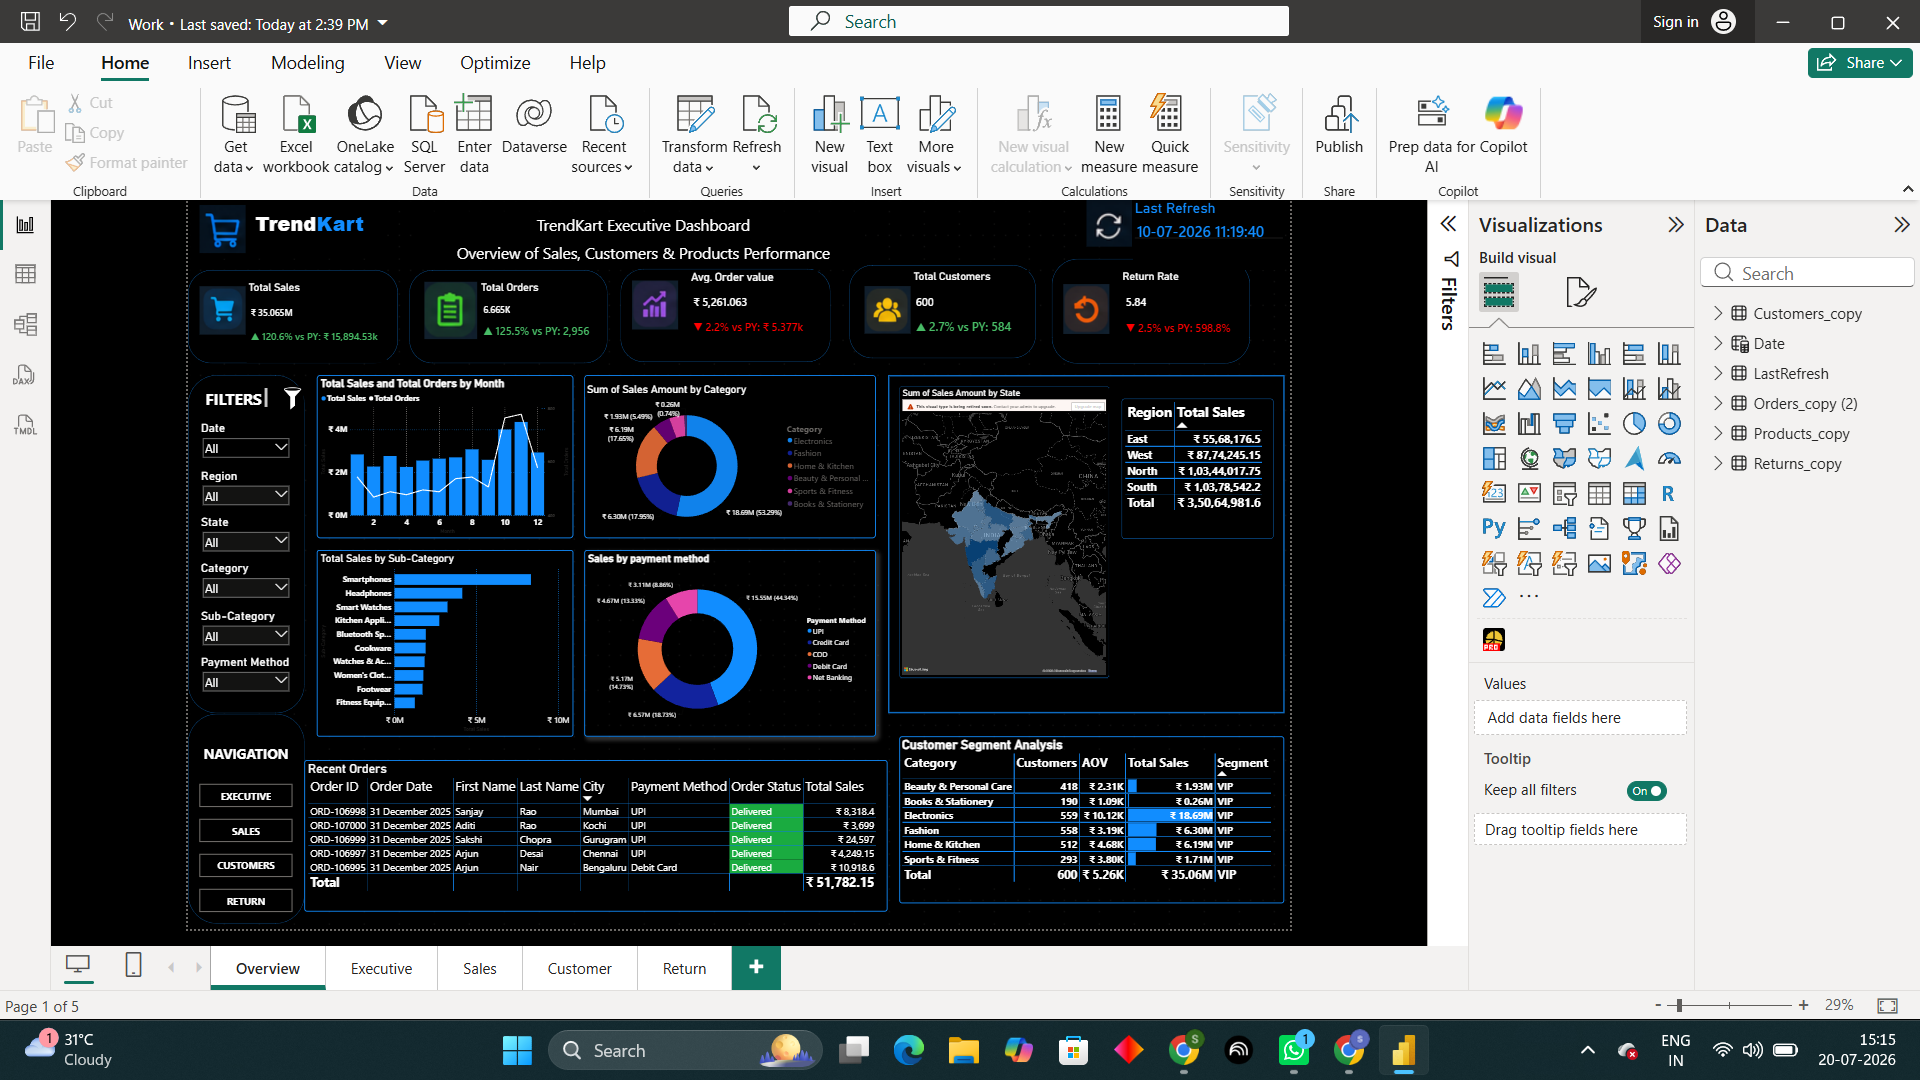

This screenshot's page, from the dashboard's own definition file:
{"tool":"powerbi","page":{"name":"Overview","canvas":[3020,2000],"ordinal":0},"visuals":[{"type":"textbox","box":[32,0,512,160],"z":0},{"type":"image","box":[32,0,128,160],"z":1000},{"type":"textbox","box":[640,32,1216,160],"z":2000},{"type":"shape","box":[0,480,320,928],"z":3000},{"type":"textbox","box":[32,512,192,64],"z":4000},{"type":"image","box":[256,512,64,64],"z":5000},{"type":"slicer","title":"Date","fields":{"Values":["Date.Date"]},"box":[32,608,256,128],"z":6000},{"type":"slicer","title":"Region","fields":{"Values":["Customers_copy.Region"]},"box":[32,736,256,128],"z":7000},{"type":"slicer","title":"State","fields":{"Values":["Customers_copy.State"]},"box":[32,864,256,128],"z":8000},{"type":"slicer","title":"Category","fields":{"Values":["Products_copy.Category"]},"box":[32,992,256,128],"z":9000},{"type":"slicer","title":"Sub-Category","fields":{"Values":["Products_copy.Sub-Category"]},"box":[32,1120,256,128],"z":10000},{"type":"slicer","title":"Payment Method","fields":{"Values":["Orders_copy (2).Payment Method"]},"box":[32,1248,256,128],"z":11000},{"type":"shape","box":[1920,480,1088,928],"z":12000},{"type":"shape","box":[0,192,576,256],"z":13000},{"type":"cardVisual","title":"Total Sales","fields":{"Data":["Orders_copy (2).Total Sales"]},"box":[160,224,384,224],"z":14000},{"type":"image","box":[32,224,128,160],"z":15000},{"type":"shape","box":[608,192,544,256],"z":16000},{"type":"cardVisual","title":"Total Orders","fields":{"Data":["Orders_copy (2).Curr_Order"]},"box":[800,224,320,192],"z":17000},{"type":"image","box":[640,224,160,160],"z":18000},{"type":"shape","box":[1184.7,188,576,256],"z":19000},{"type":"cardVisual","title":"Avg. Order value","fields":{"Data":["Orders_copy (2).AOV"]},"box":[1376,192,352,224],"z":20000},{"type":"image","box":[1216,192,128,192],"z":21000},{"type":"shape","box":[1815.3,178.7,512,256],"z":22000},{"type":"cardVisual","title":"Total Customers","fields":{"Data":["Customers_copy.Curr_Cust"]},"box":[1984,192,320,224],"z":23000},{"type":"image","box":[1854.8,204.6,128,192],"z":24000},{"type":"shape","box":[2368,160,544,288],"z":25000},{"type":"image","box":[2398.8,172.6,128,256],"z":26000},{"type":"filledMap","fields":{"Category":["Customers_copy.State"]},"box":[1952,512,576,800],"z":27000},{"type":"tableEx","fields":{"Values":["Customers_copy.Region","Orders_copy (2).Total Sales"]},"box":[2560,544,416,384],"z":28000},{"type":"donutChart","fields":{"Y":["Sum(Orders_copy (2).Sales Amount)"],"Category":["Products_copy.Category"]},"box":[1088,480,800,448],"z":29000},{"type":"donutChart","title":"Sales by payment method","fields":{"Category":["Orders_copy (2).Payment Method"],"Y":["Sum(Orders_copy (2).Sales Amount)"]},"box":[1088,960,800,512],"z":30000},{"type":"clusteredBarChart","fields":{"Category":["Products_copy.Sub-Category"],"Y":["Orders_copy (2).Total Sales"]},"box":[352,960,704,512],"z":31000},{"type":"lineStackedColumnComboChart","fields":{"Category":["Date.Month"],"Y":["Orders_copy (2).Total Sales"],"Y2":["Orders_copy (2).Curr_Order"]},"box":[352,480,704,448],"z":32000},{"type":"cardVisual","title":"Return Rate","fields":{"Data":["Returns_copy.Return Rate"]},"box":[2560,192,320,224],"z":33000},{"type":"shape","box":[0,1408,320,576],"z":34000},{"type":"textbox","box":[32,1472,256,96],"z":35000},{"type":"actionButton","box":[32,1600,256,64],"z":36000},{"type":"actionButton","box":[32,1696,256,64],"z":37000},{"type":"actionButton","box":[32,1792,256,64],"z":38000},{"type":"actionButton","box":[32,1888,256,64],"z":39000},{"type":"tableEx","title":"Recent Orders","fields":{"Values":["Orders_copy (2).Order ID","Orders_copy (2).Order Date","Customers_copy.First Name","Customers_copy.Last Name","Customers_copy.City","Orders_copy (2).Payment Method","Orders_copy (2).Order Status","Orders_copy (2).Total Sales"]},"box":[320,1536,1600,416],"z":40000},{"type":"tableEx","title":"Customer Segment Analysis","fields":{"Values":["Products_copy.Category","Customers_copy.Curr_Cust","Orders_copy (2).AOV","Orders_copy (2).Total Sales","Customers_copy.Segment"]},"box":[1952,1472,1056,458],"z":41000},{"type":"cardVisual","title":"Last Refresh ","fields":{"Rows":["LastRefresh.LastRefresh"]},"box":[2592,0,416,192],"z":42000},{"type":"image","box":[2432,0,192,128],"z":43000}]}

Visuals, with their boxes on the page's 3020x2000 design canvas (x1, y1, x2, y2). These are canvas units, not pixel positions in the 1920x1080 screenshot, which may show the page scaled, cropped or inside an application window:
textbox: [32,0,544,160]
image: [32,0,160,160]
textbox: [640,32,1856,192]
shape: [0,480,320,1408]
textbox: [32,512,224,576]
image: [256,512,320,576]
"Date" slicer: [32,608,288,736]
"Region" slicer: [32,736,288,864]
"State" slicer: [32,864,288,992]
"Category" slicer: [32,992,288,1120]
"Sub-Category" slicer: [32,1120,288,1248]
"Payment Method" slicer: [32,1248,288,1376]
shape: [1920,480,3008,1408]
shape: [0,192,576,448]
"Total Sales" cardVisual: [160,224,544,448]
image: [32,224,160,384]
shape: [608,192,1152,448]
"Total Orders" cardVisual: [800,224,1120,416]
image: [640,224,800,384]
shape: [1185,188,1761,444]
"Avg. Order value" cardVisual: [1376,192,1728,416]
image: [1216,192,1344,384]
shape: [1815,179,2327,435]
"Total Customers" cardVisual: [1984,192,2304,416]
image: [1855,205,1983,397]
shape: [2368,160,2912,448]
image: [2399,173,2527,429]
filledMap - Customers_copy.State: [1952,512,2528,1312]
tableEx - Customers_copy.Region x Orders_copy (2).Total Sales: [2560,544,2976,928]
donutChart - Sum(Orders_copy (2).Sales Amount) x Products_copy.Category: [1088,480,1888,928]
"Sales by payment method" donutChart: [1088,960,1888,1472]
clusteredBarChart - Products_copy.Sub-Category x Orders_copy (2).Total Sales: [352,960,1056,1472]
lineStackedColumnComboChart - Date.Month x Orders_copy (2).Total Sales: [352,480,1056,928]
"Return Rate" cardVisual: [2560,192,2880,416]
shape: [0,1408,320,1984]
textbox: [32,1472,288,1568]
actionButton: [32,1600,288,1664]
actionButton: [32,1696,288,1760]
actionButton: [32,1792,288,1856]
actionButton: [32,1888,288,1952]
"Recent Orders" tableEx: [320,1536,1920,1952]
"Customer Segment Analysis" tableEx: [1952,1472,3008,1930]
"Last Refresh " cardVisual: [2592,0,3008,192]
image: [2432,0,2624,128]
